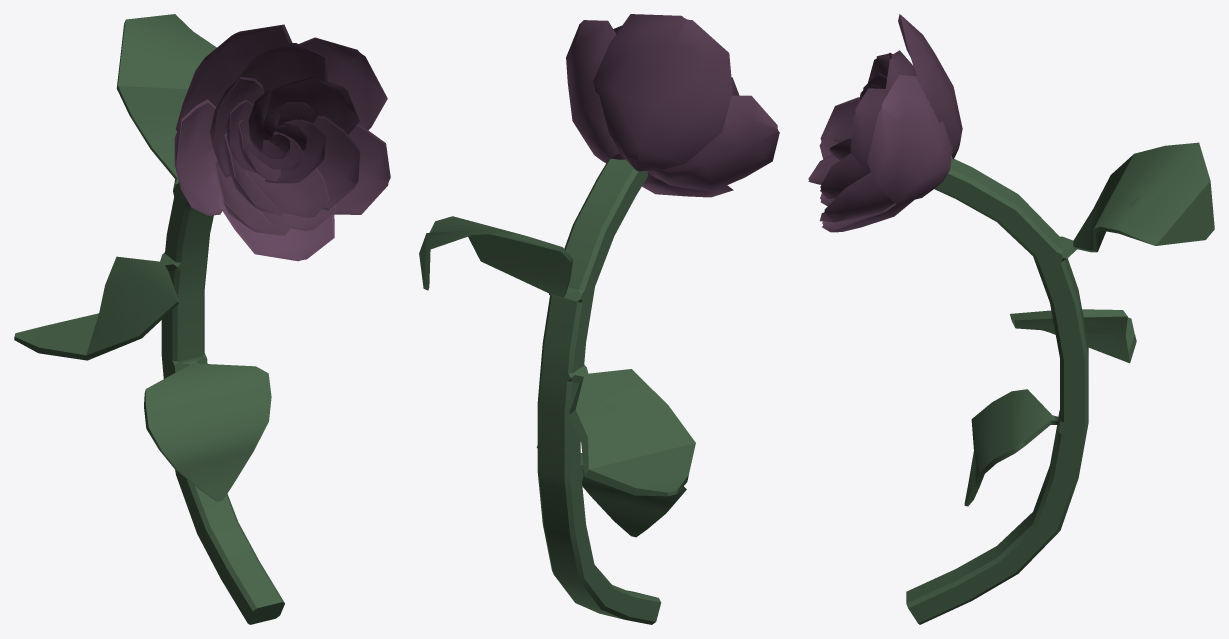
The model's file is lvl2_rose_2.fbx.
The picture shows the model from 3 angles, left to right: view 1: azimuth 30°, elevation 25°; view 2: azimuth 150°, elevation 25°; view 3: azimuth 270°, elevation 25°; orthographic projection. The views are drawn at different scales.
Visible parts, largest first — view 1: test_curve1, rose_petal23, rose_petal21, rose_petal22, rose_petal, rose_petal19, rose_petal20, rose_petal1, rose_petal14, rose_petal13, rose_petal17, rose_petal18 (+8 smaller); view 2: test_curve1, rose_petal23, rose_petal21, rose_petal22, rose_petal20; view 3: test_curve1, rose_petal22, rose_petal23, rose_petal19, rose_petal1, rose_petal14, rose_petal15, rose_petal20, rose_petal.
Part boxes in pixels (bbox=[...]): test_curve1: bbox=[14, 14, 284, 624]; rose_petal23: bbox=[175, 24, 292, 130]; rose_petal21: bbox=[174, 99, 222, 215]; rose_petal22: bbox=[299, 37, 387, 130]; rose_petal: bbox=[236, 43, 327, 93]; rose_petal19: bbox=[333, 124, 390, 214]; rose_petal20: bbox=[218, 193, 334, 261]; rose_petal1: bbox=[261, 77, 359, 134]; rose_petal14: bbox=[314, 116, 360, 210]; rose_petal13: bbox=[245, 167, 329, 217]; rose_petal17: bbox=[210, 77, 263, 177]; rose_petal18: bbox=[212, 159, 290, 235]; test_curve1: bbox=[419, 158, 695, 624]; rose_petal23: bbox=[593, 14, 732, 171]; rose_petal21: bbox=[647, 95, 779, 191]; rose_petal22: bbox=[566, 20, 624, 163]; rose_petal20: bbox=[642, 172, 733, 197]; test_curve1: bbox=[906, 142, 1214, 624]; rose_petal22: bbox=[867, 74, 952, 203]; rose_petal23: bbox=[898, 14, 962, 158]; rose_petal19: bbox=[820, 172, 894, 222]; rose_petal1: bbox=[850, 88, 885, 172]; rose_petal14: bbox=[820, 153, 869, 199]; rose_petal15: bbox=[819, 97, 859, 159]; rose_petal20: bbox=[822, 200, 913, 232]; rose_petal: bbox=[885, 50, 916, 96].
Bounding box in the file's own units: 1256 × 2976 × 1869.
